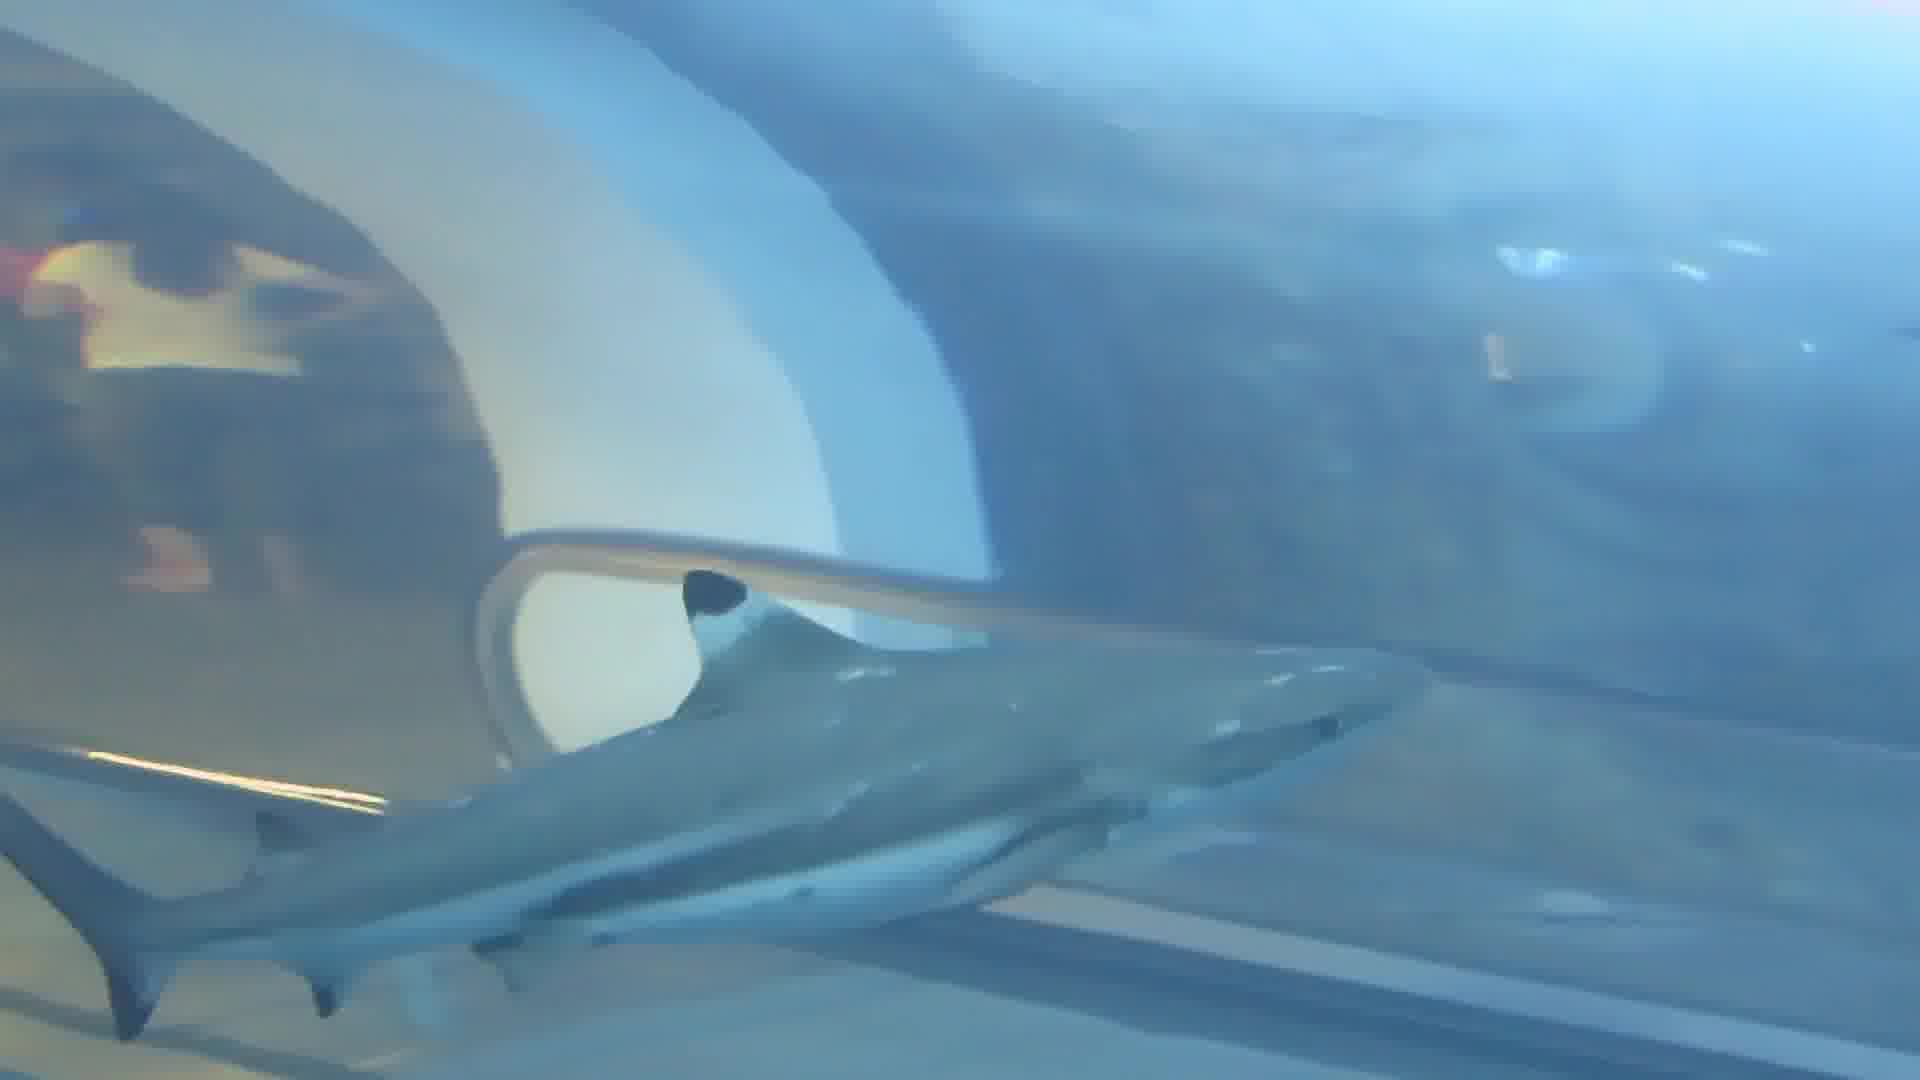Carcharhinus melanopterus: (1, 555, 1451, 1005)
